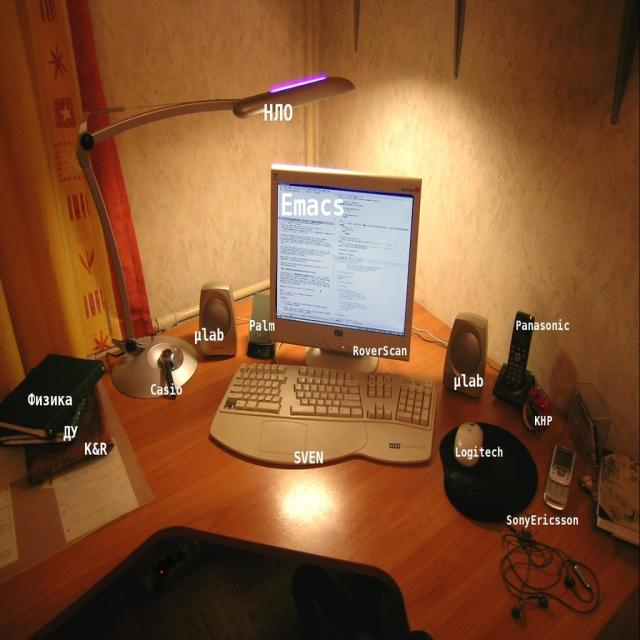desk: (0, 288, 639, 639)
keyboard: (210, 361, 439, 468)
mouse: (454, 424, 483, 468)
tv: (269, 164, 422, 360)
